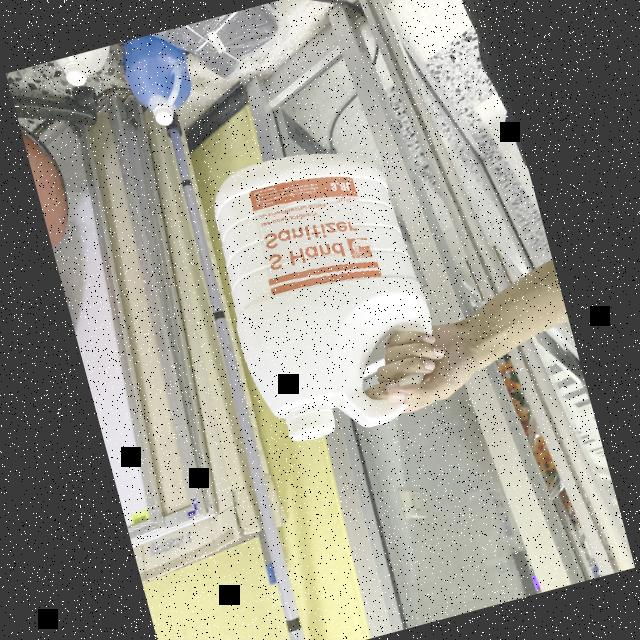chemical_plastic_gallon: (197, 128, 457, 455)
